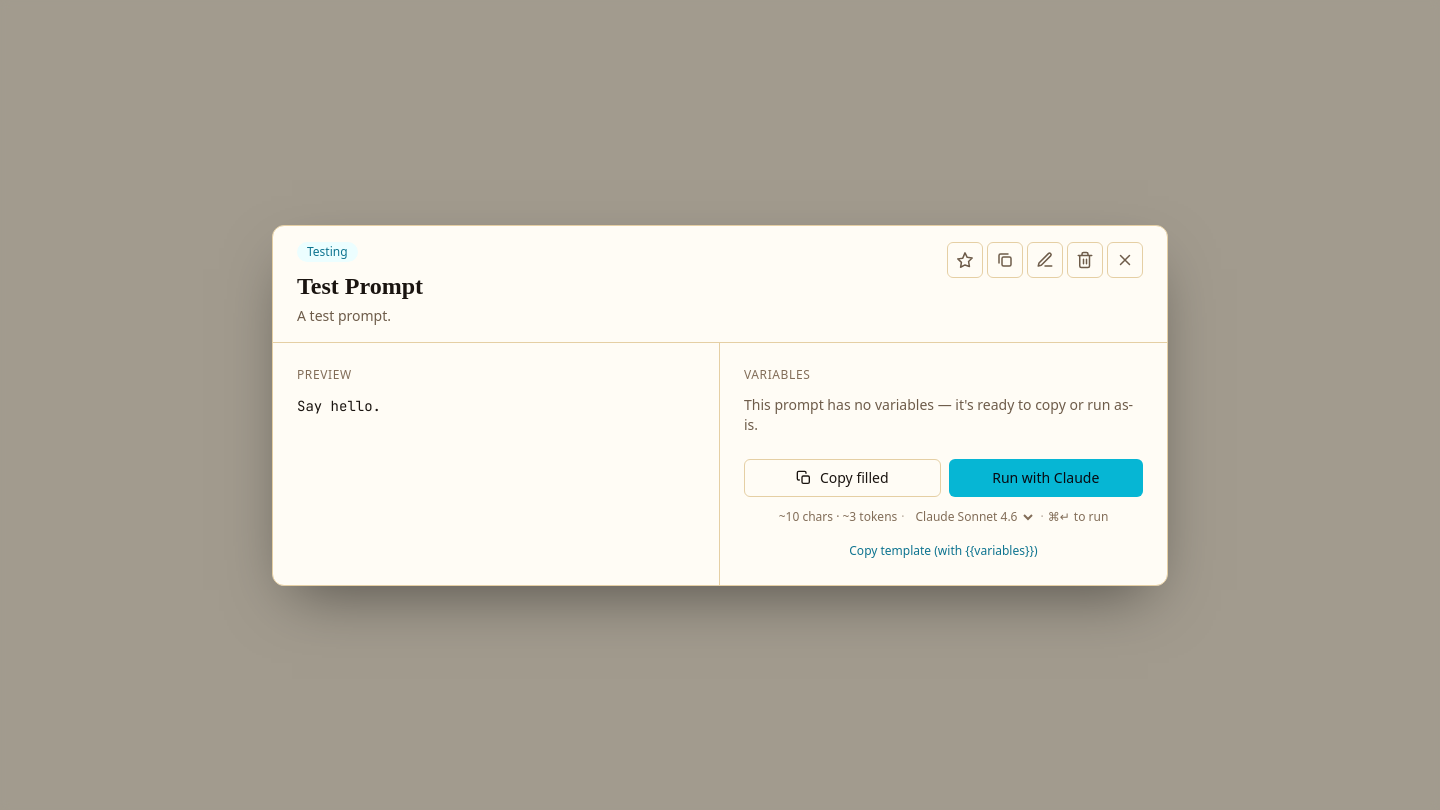
Test: PromptDetail — F-r2 rate-limit retry UI › decrements countdown text to 29s after advancing timers by 1 second
Click the button "Run with Claude": (1046, 478) [948, 458, 1143, 496]
Wait 1000 ms
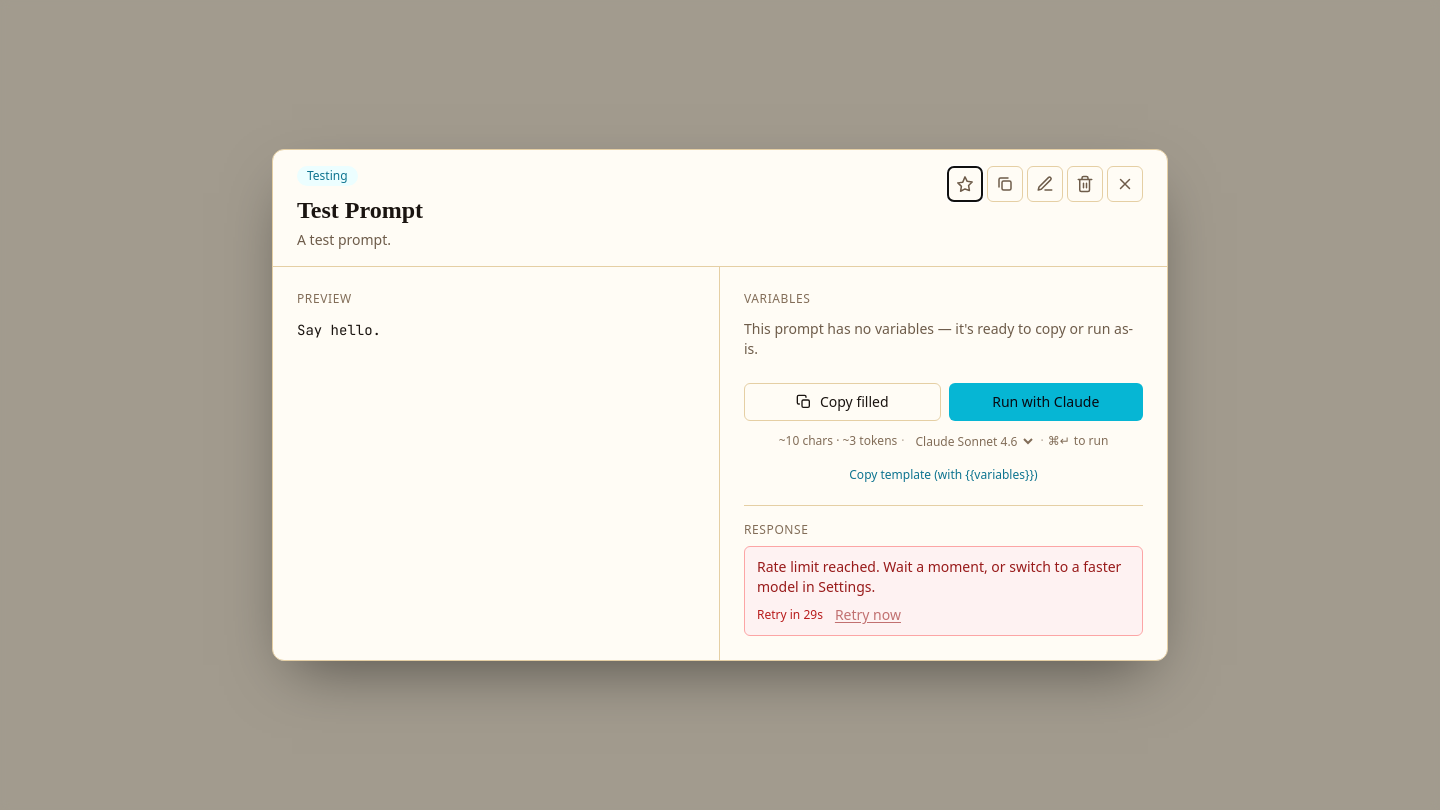
Expected: the text "Retry in 29s" is shown, [757, 607, 823, 623]
